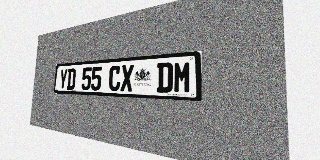5: (91, 66, 102, 91), (81, 67, 92, 90)
C: (108, 65, 121, 91)
D: (156, 62, 173, 93), (66, 68, 76, 90)
M: (173, 61, 192, 93)
X: (120, 64, 134, 92)
Y: (59, 69, 68, 89)
